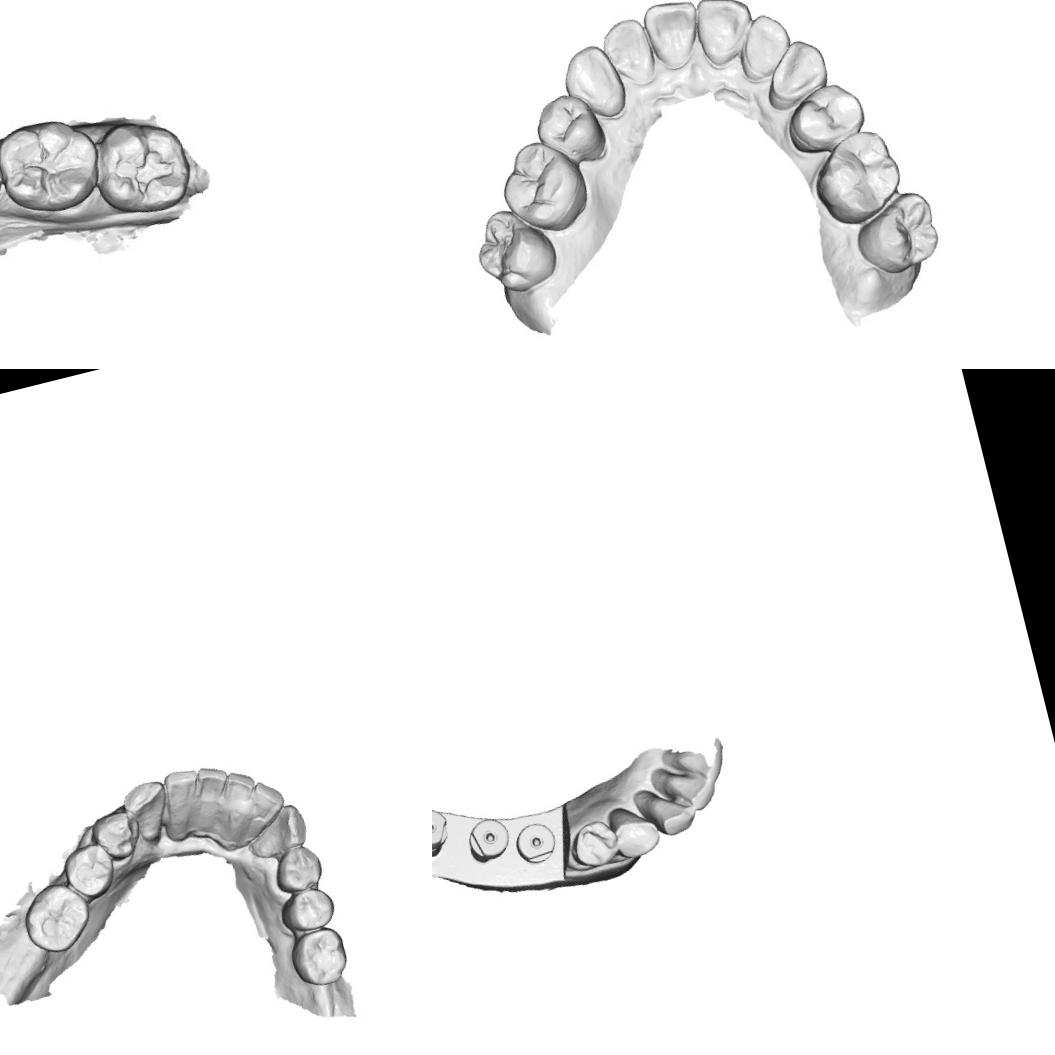canine: (554, 38, 632, 128), (757, 33, 834, 109), (239, 799, 312, 861), (117, 776, 175, 847)
crown: (564, 816, 623, 873)
implant: (460, 812, 514, 866), (510, 818, 560, 868), (432, 801, 456, 861)
incisor: (637, 0, 706, 77), (596, 11, 660, 92), (689, 0, 760, 66), (734, 8, 798, 80), (604, 796, 663, 862), (660, 762, 720, 818), (644, 786, 701, 840), (159, 764, 208, 824), (243, 774, 291, 826), (190, 761, 234, 814), (219, 765, 261, 813)
molar: (0, 107, 108, 222), (87, 110, 196, 222), (802, 122, 911, 233), (490, 130, 596, 243), (846, 184, 947, 283), (466, 197, 562, 298), (15, 874, 100, 960), (284, 922, 355, 992)
premolar: (778, 76, 871, 160), (528, 85, 610, 171), (57, 838, 120, 904), (86, 806, 146, 866), (274, 882, 340, 936), (267, 842, 327, 897)
